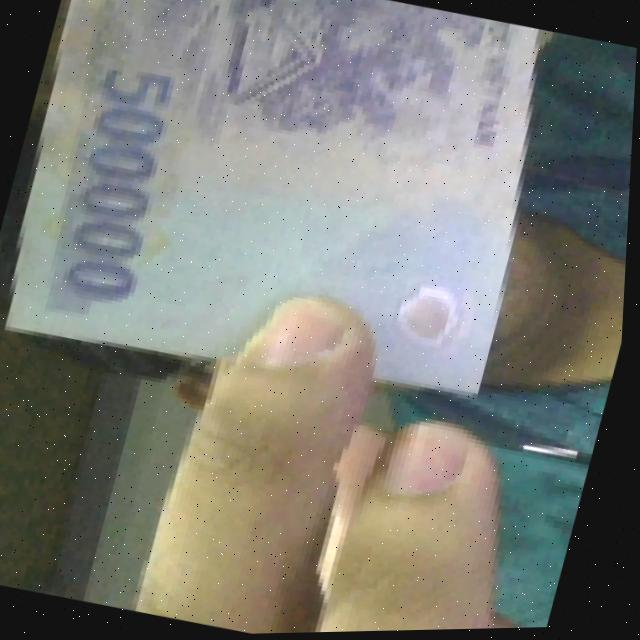500 000 VND: (0, 0, 579, 437)
